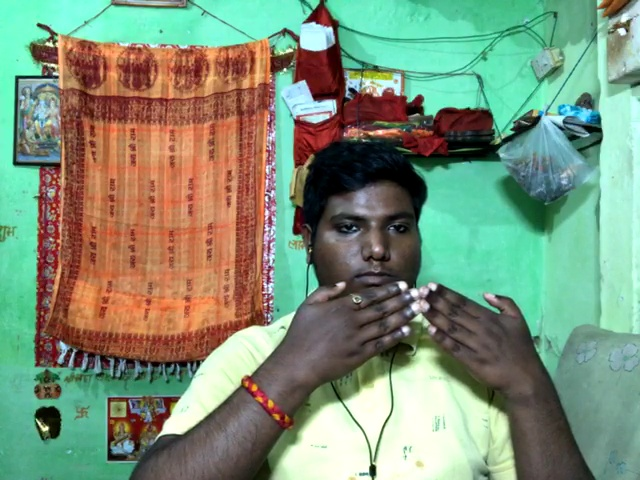Thanks: (234, 280, 558, 412)
